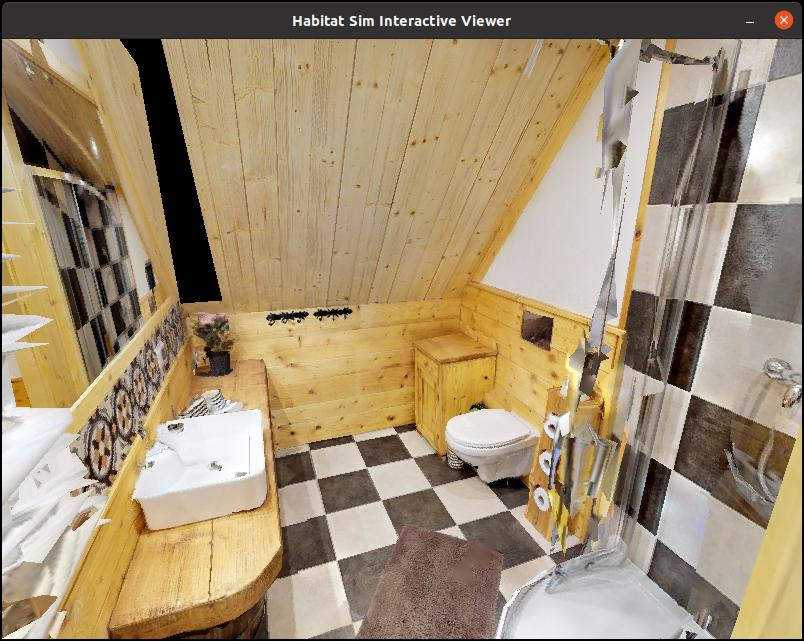shower: (506, 42, 804, 641)
sink: (110, 386, 284, 544)
toilet: (428, 396, 547, 494)
